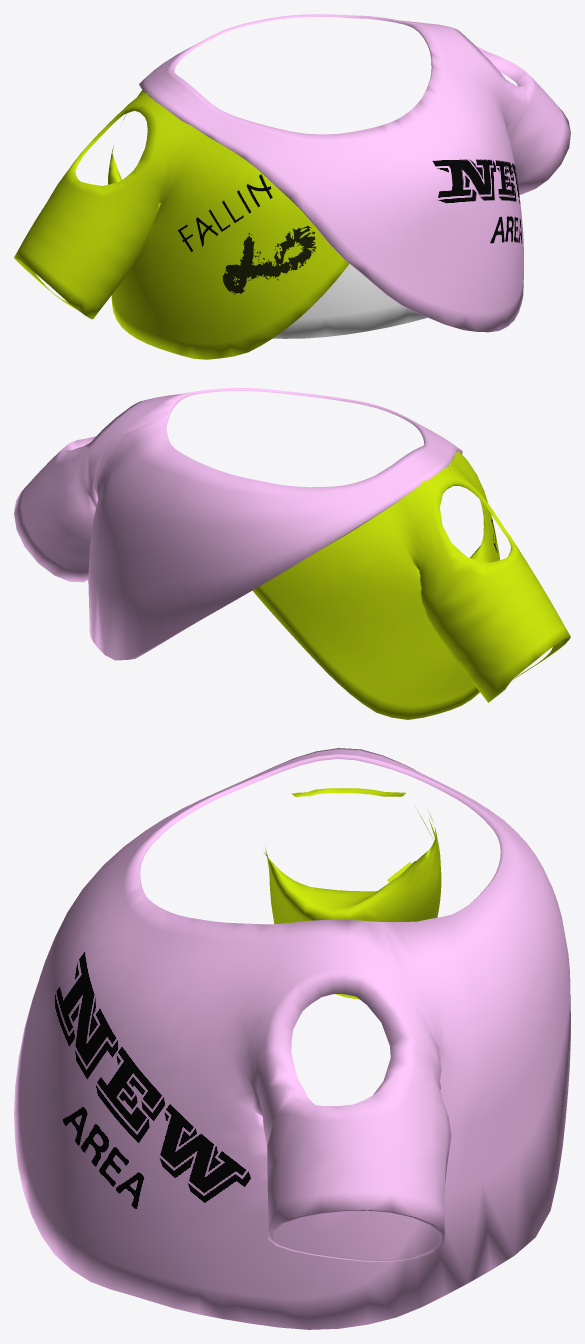
Rendered from hb_hyein_top.gltf.
3 views of the same model, one above another, from view 1: azimuth 30°, elevation 25°; view 2: azimuth 150°, elevation 25°; view 3: azimuth 270°, elevation 25° (orthographic). The views are drawn at different scales.
Parts seen in each view (by area): view 1: Boole_remesh, Boole_remesh.1, POSED_BODY_FIN2.5; view 2: Boole_remesh, Boole_remesh.1; view 3: Boole_remesh, Boole_remesh.1.
Boxes of the visible parts, bbox=[...] form: Boole_remesh: bbox=[139, 14, 570, 332]; Boole_remesh.1: bbox=[14, 90, 349, 359]; POSED_BODY_FIN2.5: bbox=[273, 264, 427, 338]; Boole_remesh: bbox=[14, 388, 462, 660]; Boole_remesh.1: bbox=[252, 451, 570, 719]; Boole_remesh: bbox=[14, 748, 570, 1329]; Boole_remesh.1: bbox=[264, 788, 441, 999].
Bounding box in the file's own units: 0.0499 × 0.0213 × 0.0302.
Materials: 3 (2 with a texture image).
